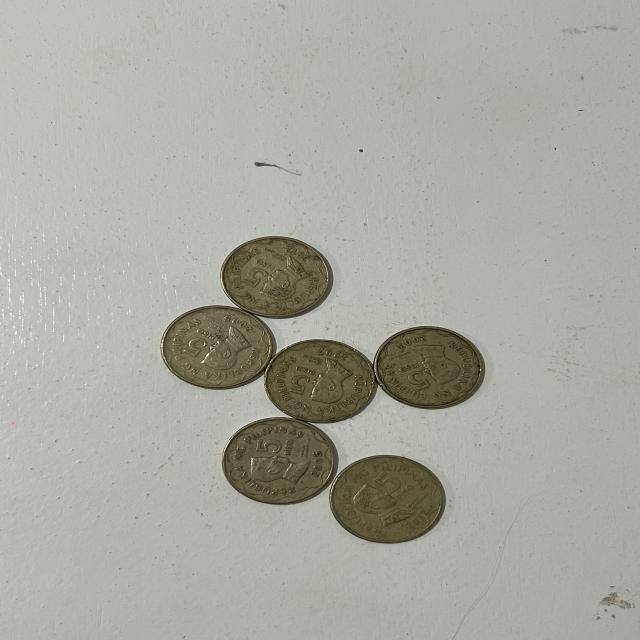5_Old_Front: (237, 260, 293, 289), (248, 432, 302, 462), (175, 317, 217, 355), (376, 468, 418, 506), (282, 359, 321, 398), (392, 359, 434, 394)
